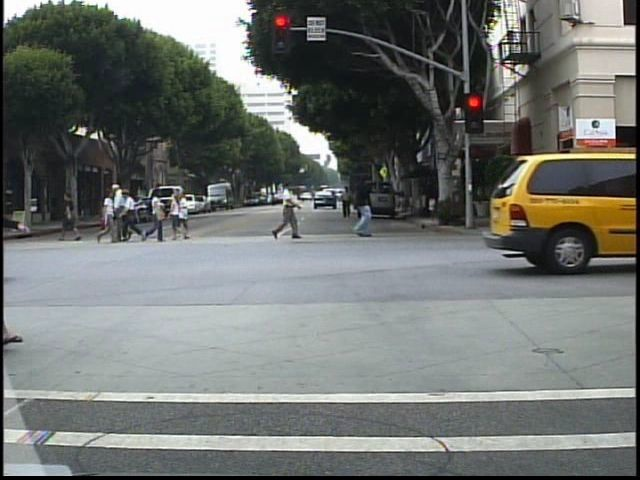person: (344, 168, 383, 241), (273, 178, 303, 241), (147, 187, 170, 245), (123, 185, 143, 245), (59, 186, 80, 243), (110, 180, 127, 245), (97, 187, 115, 247)
